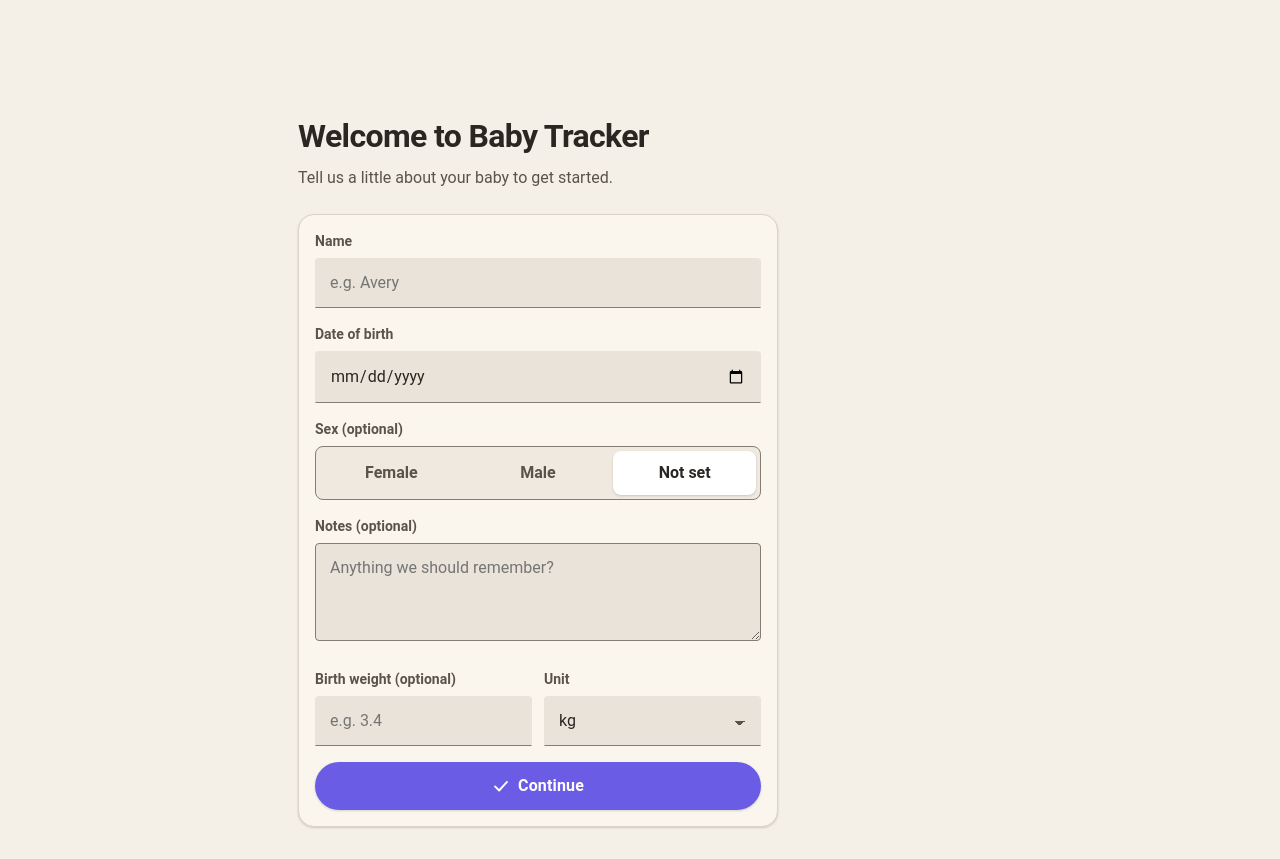
Test: Solid-food details › combines oz and gram solids into the preferred grams total
This screenshot has width=1280, height=859.
Type "Avery" into the field labelled "Name" at [538, 283], box [315,258,761,308]
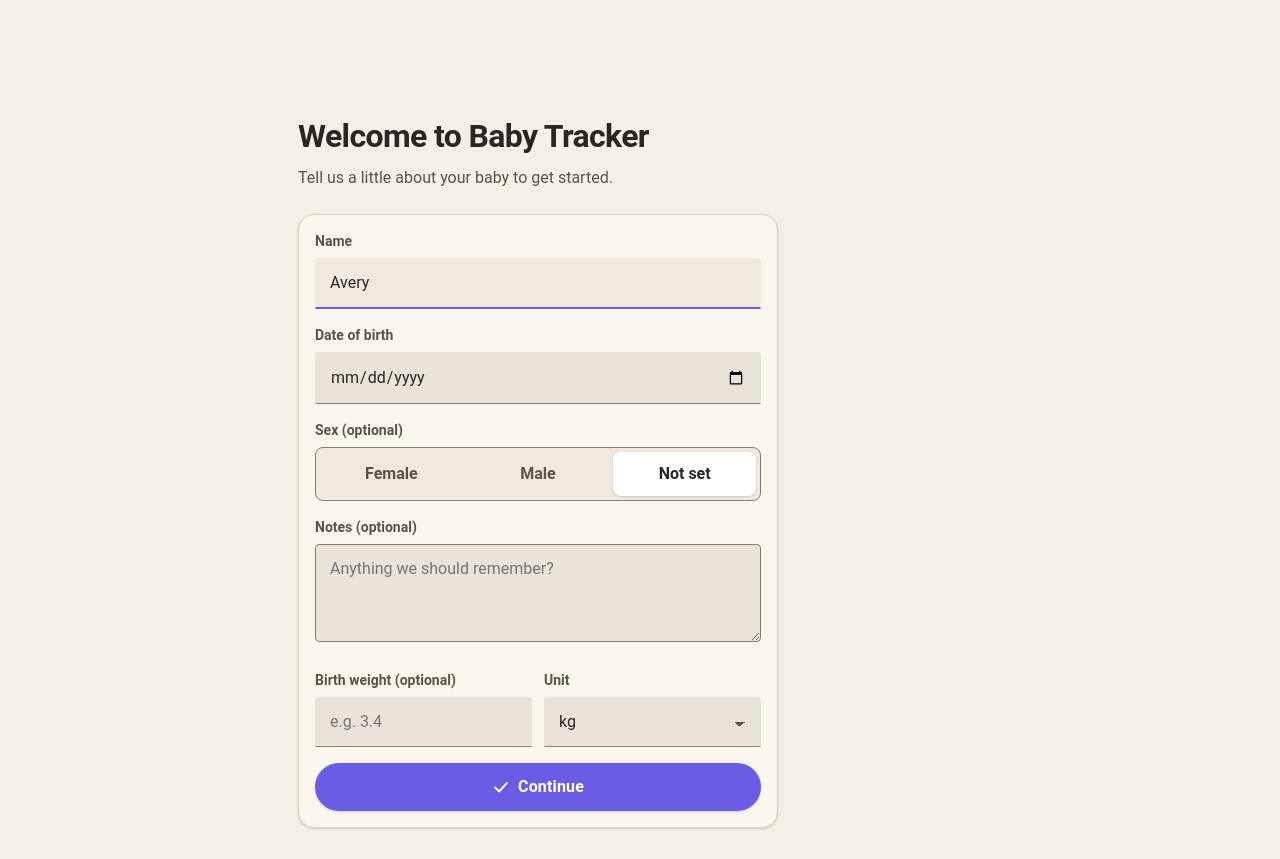
Type "2026-01-15" into the date field labelled "Date of birth" at [538, 378], box [315,352,761,404]
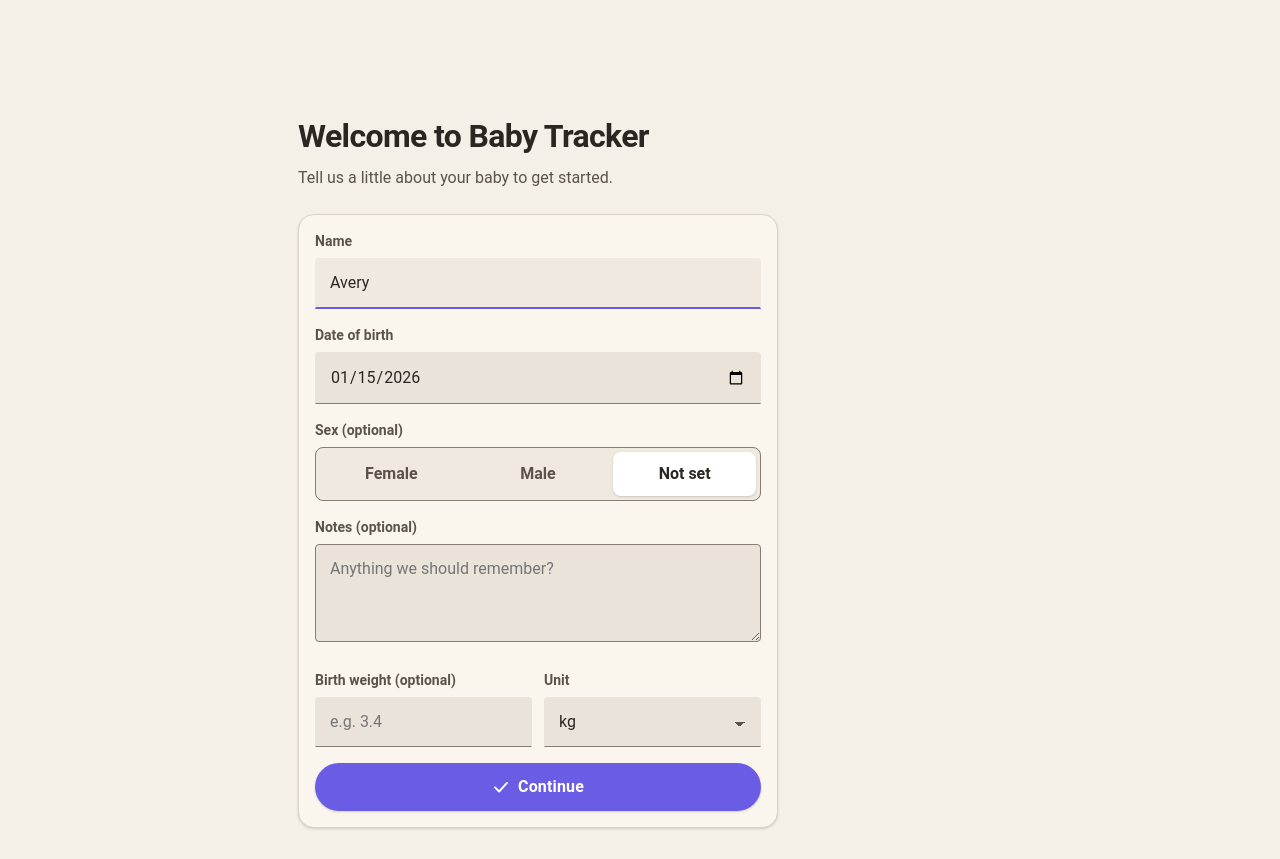
Click the button "Continue" at [538, 787], box [315,763,761,811]
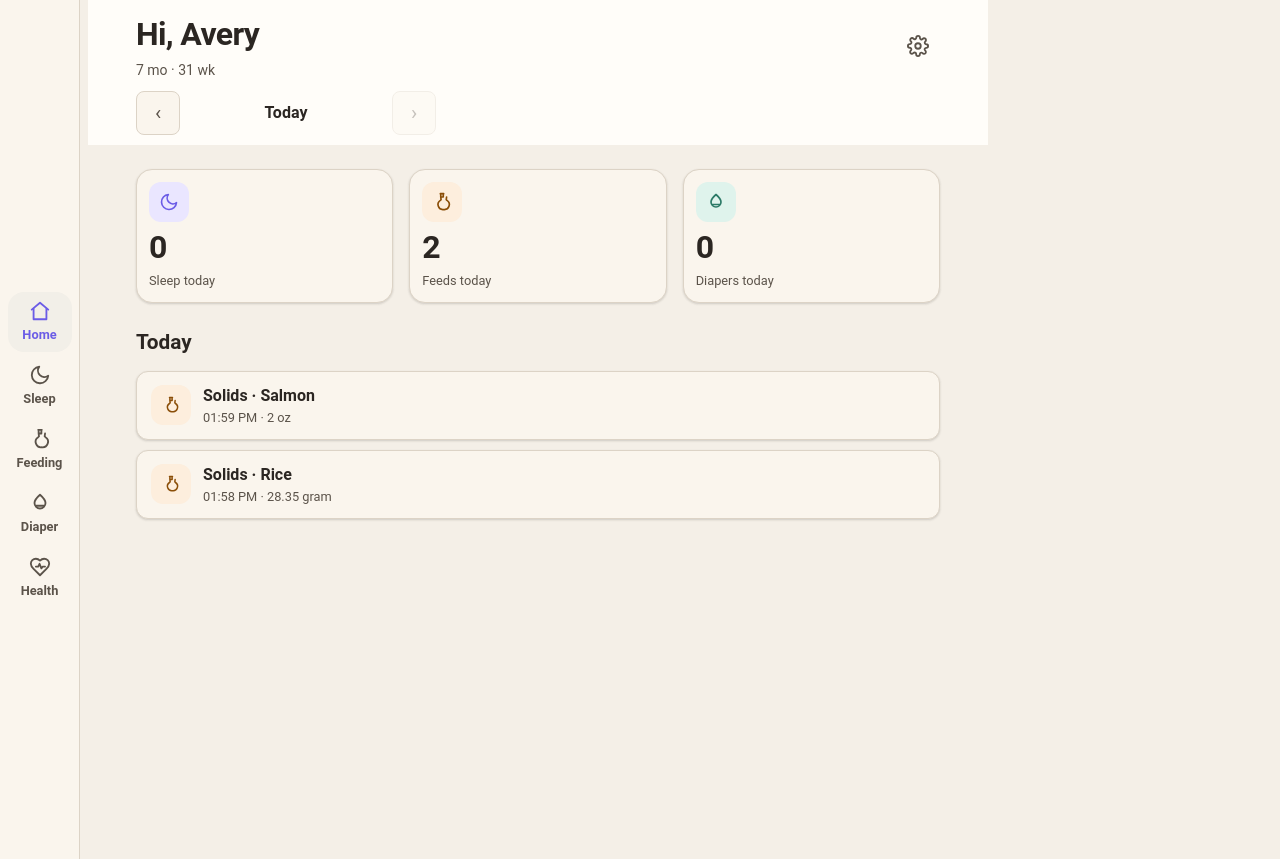
Click the button "Feeding" at [40, 450], box [8,420,72,480]
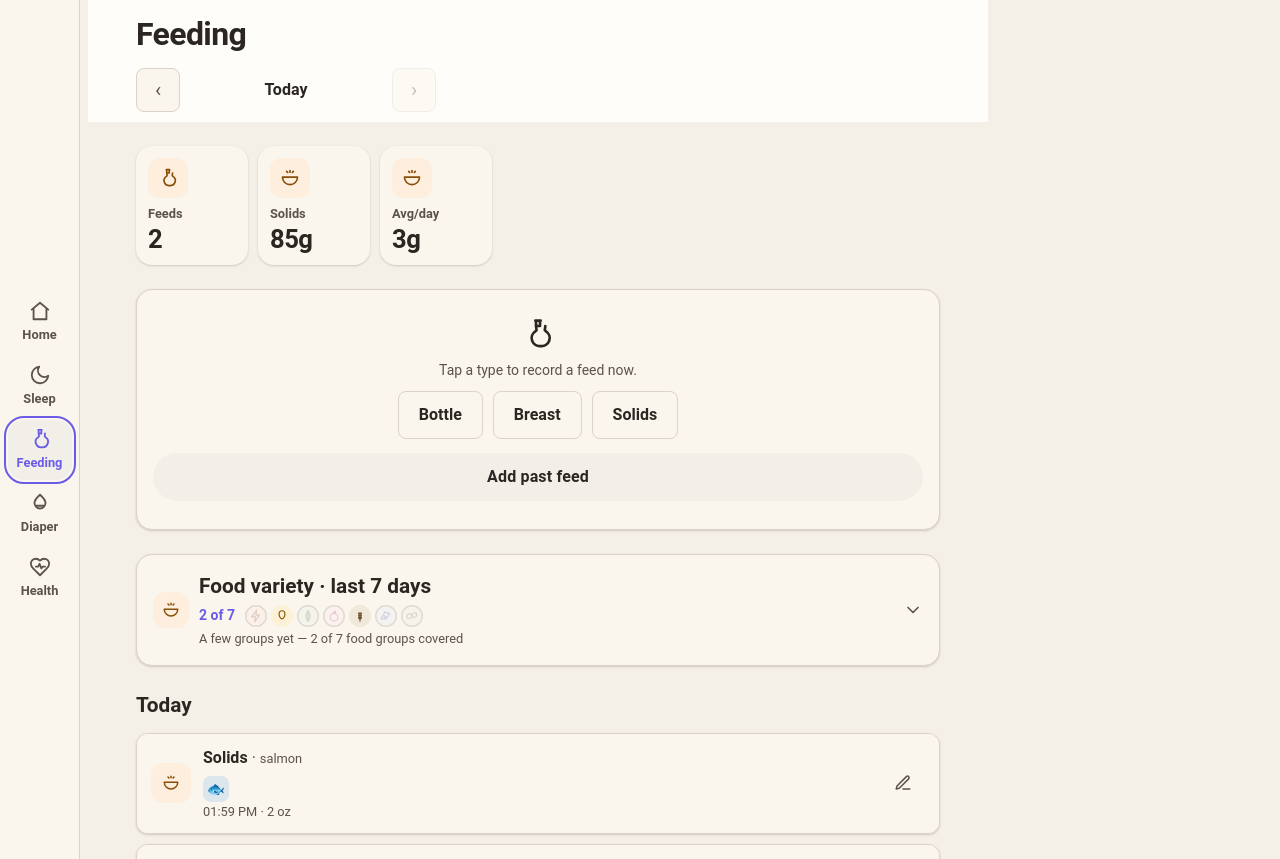
Result: the text "85g" is shown at [270,225,312,253]
